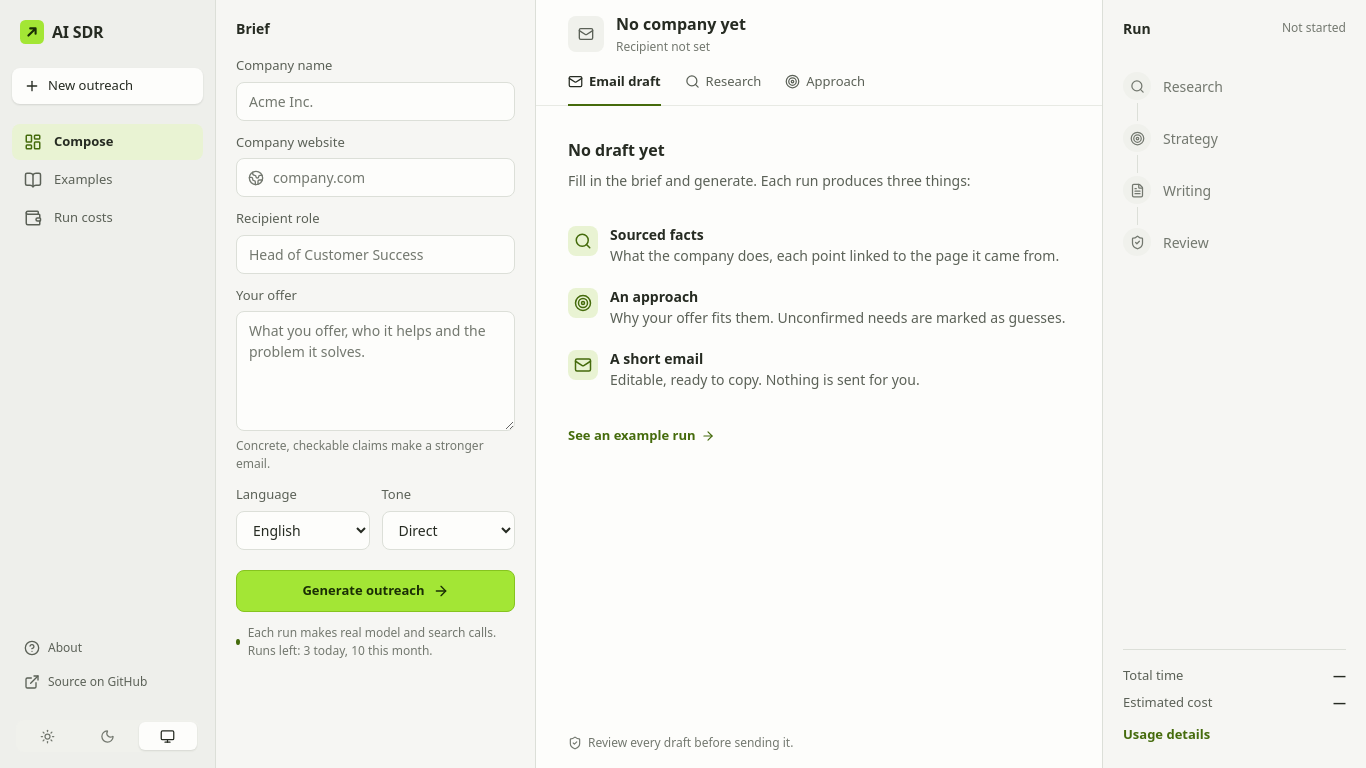
Test: brief validation › shows field errors on Generate instead of sending an invalid brief
The image size is (1366, 768).
Type "Acme" into the field labelled "Company name".
click(376, 101); type("Acme")  # box [236,82,515,120]
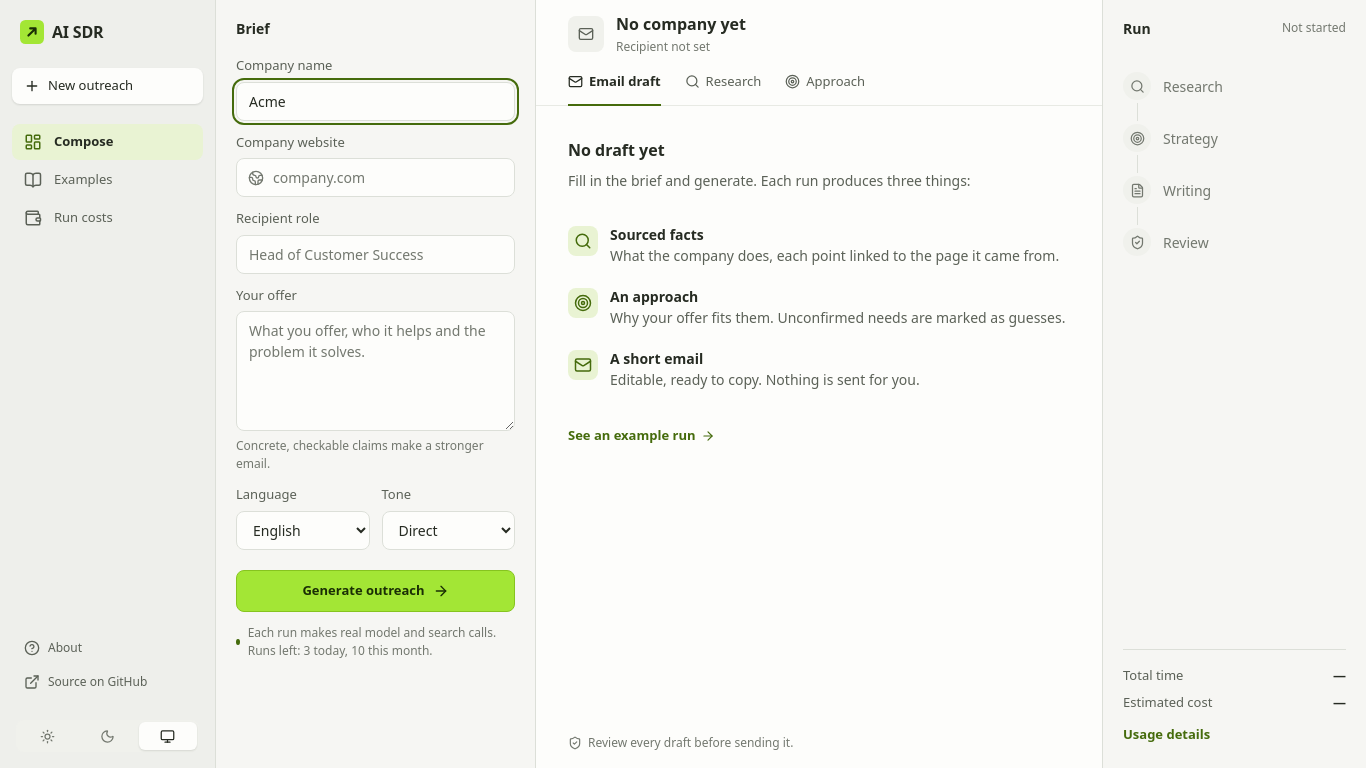
Click the button "Generate outreach".
click(376, 590)  # box [236,570,515,612]
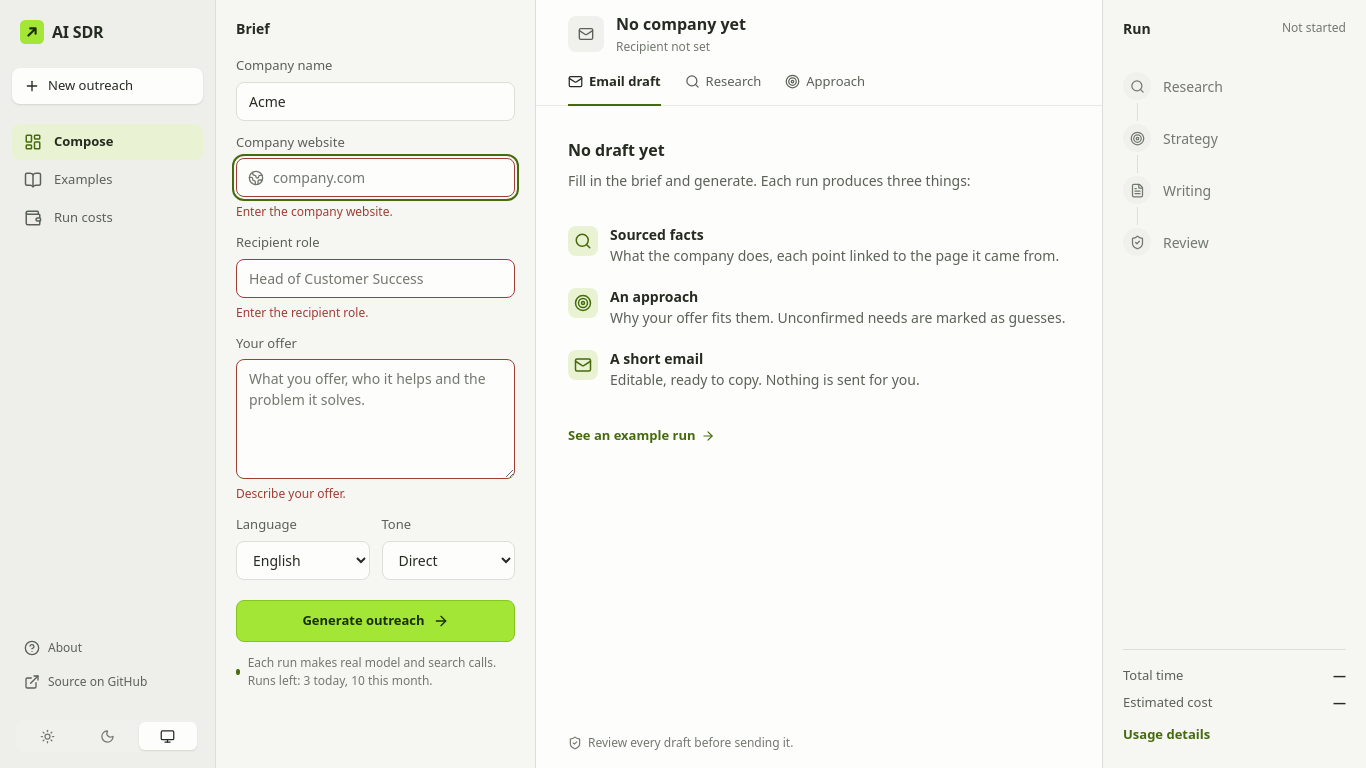
Check: the text "Enter the company website." is shown, box [236,203,393,220]
Type "acme.com" into the field labelled "Company website".
click(376, 178); type("acme.com")  # box [236,158,515,197]
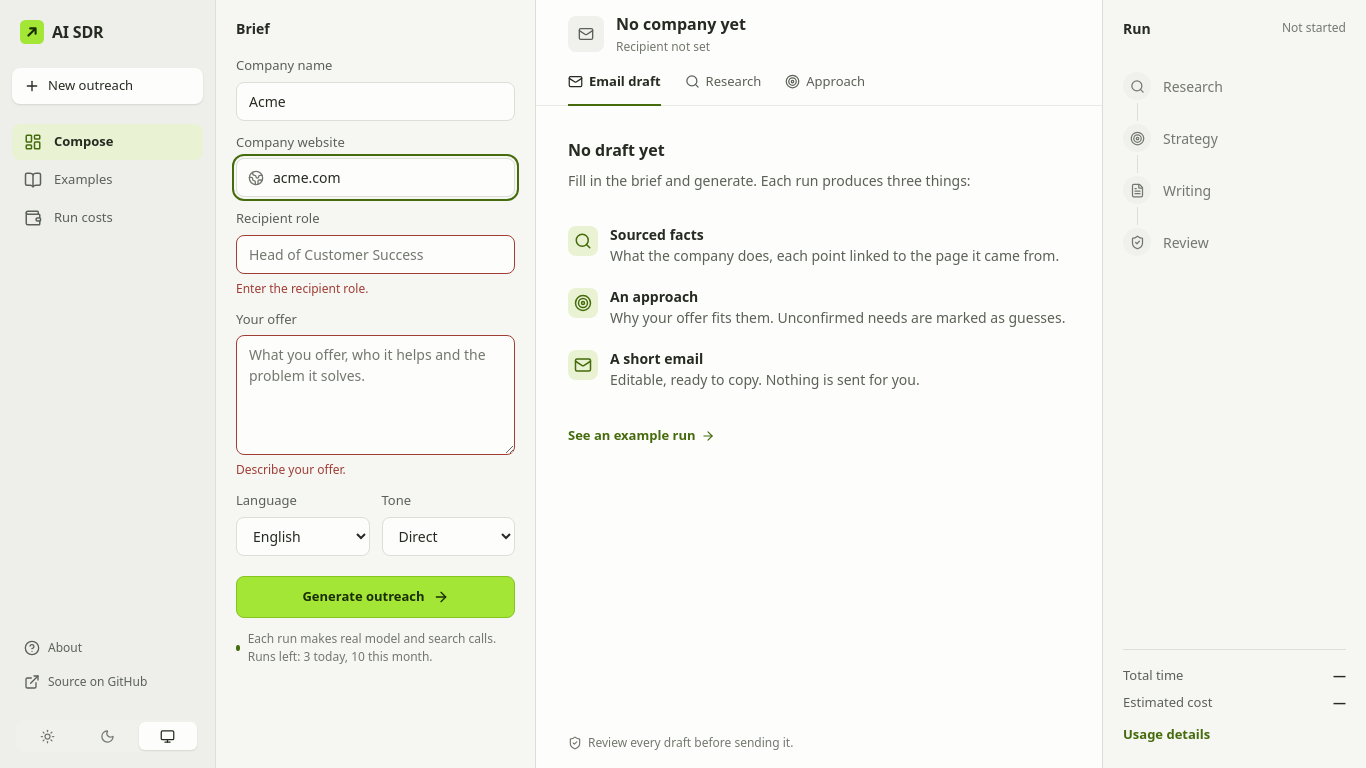
Check: the text "Enter the company website." is gone
